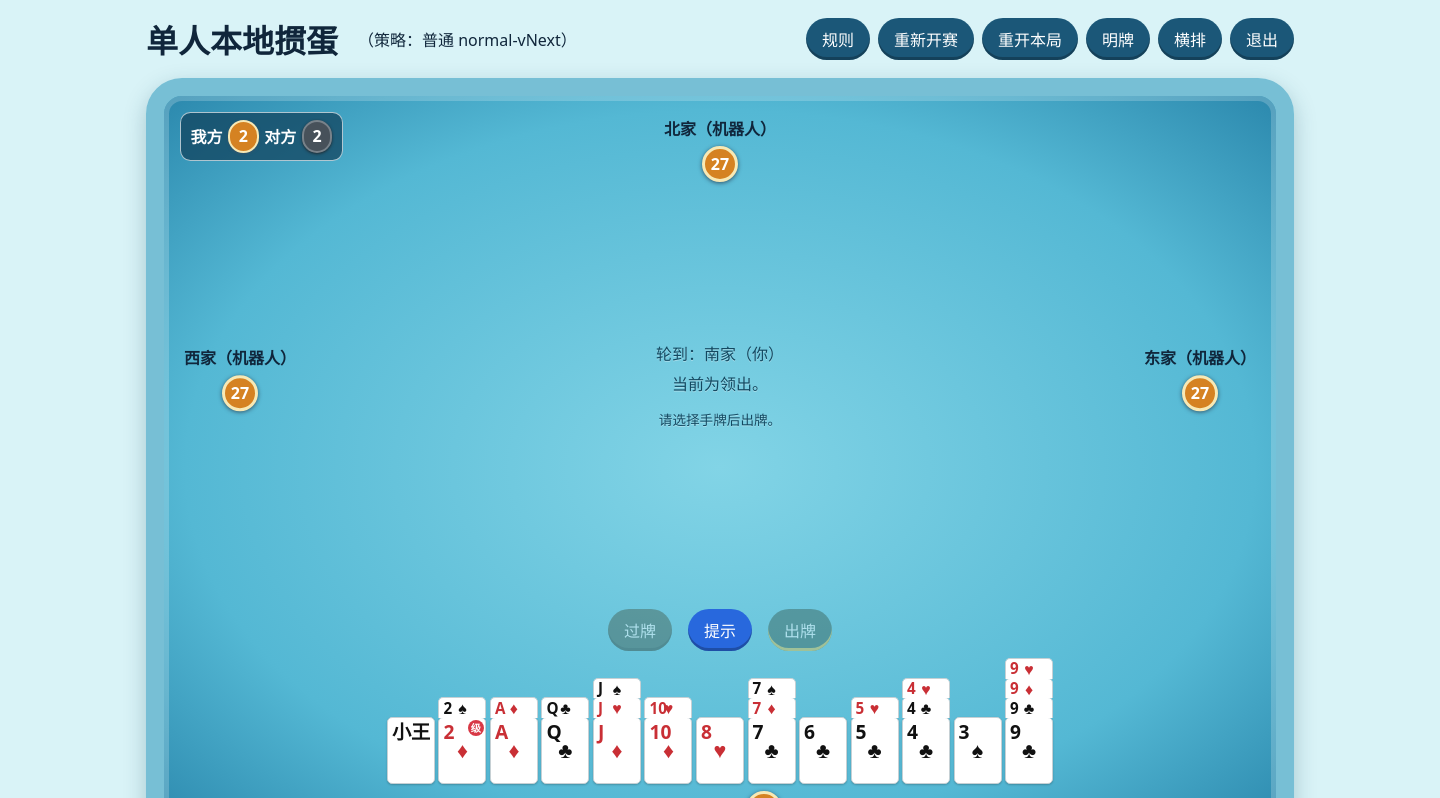
it: App › 首局由南家行动，牌桌按四边座位显示并高亮可选牌
Expected: the element named "北家座位" shows "27", [711,153,729,175]
Expected: the element named "东家座位" shows "27", [1191,382,1209,404]
Click the button with aria-label "选择": (411, 750) [387,717,435,784]
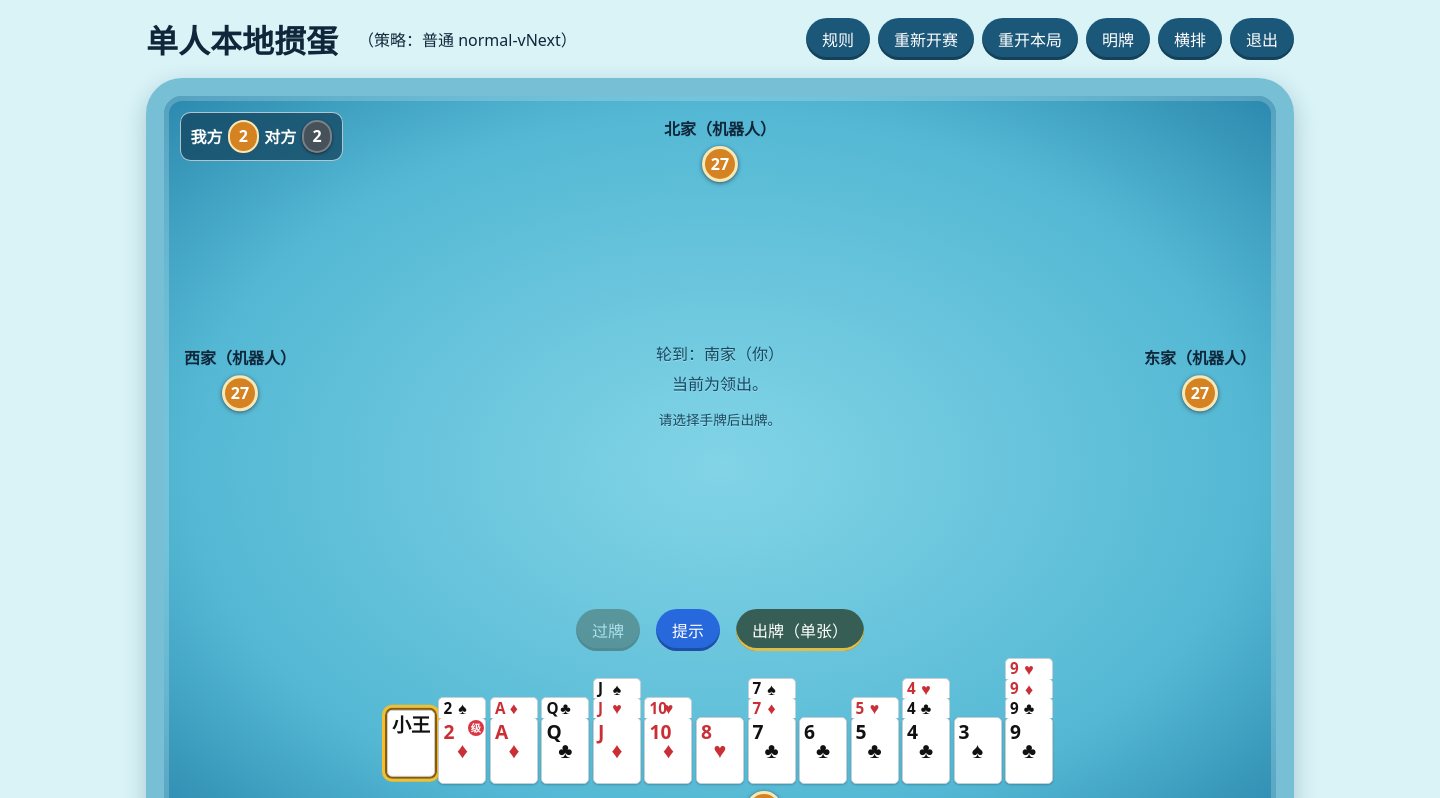
Expected: the button with aria-label "选择" is pressed
Click the button with aria-label "选择": (411, 750) [387,717,435,784]
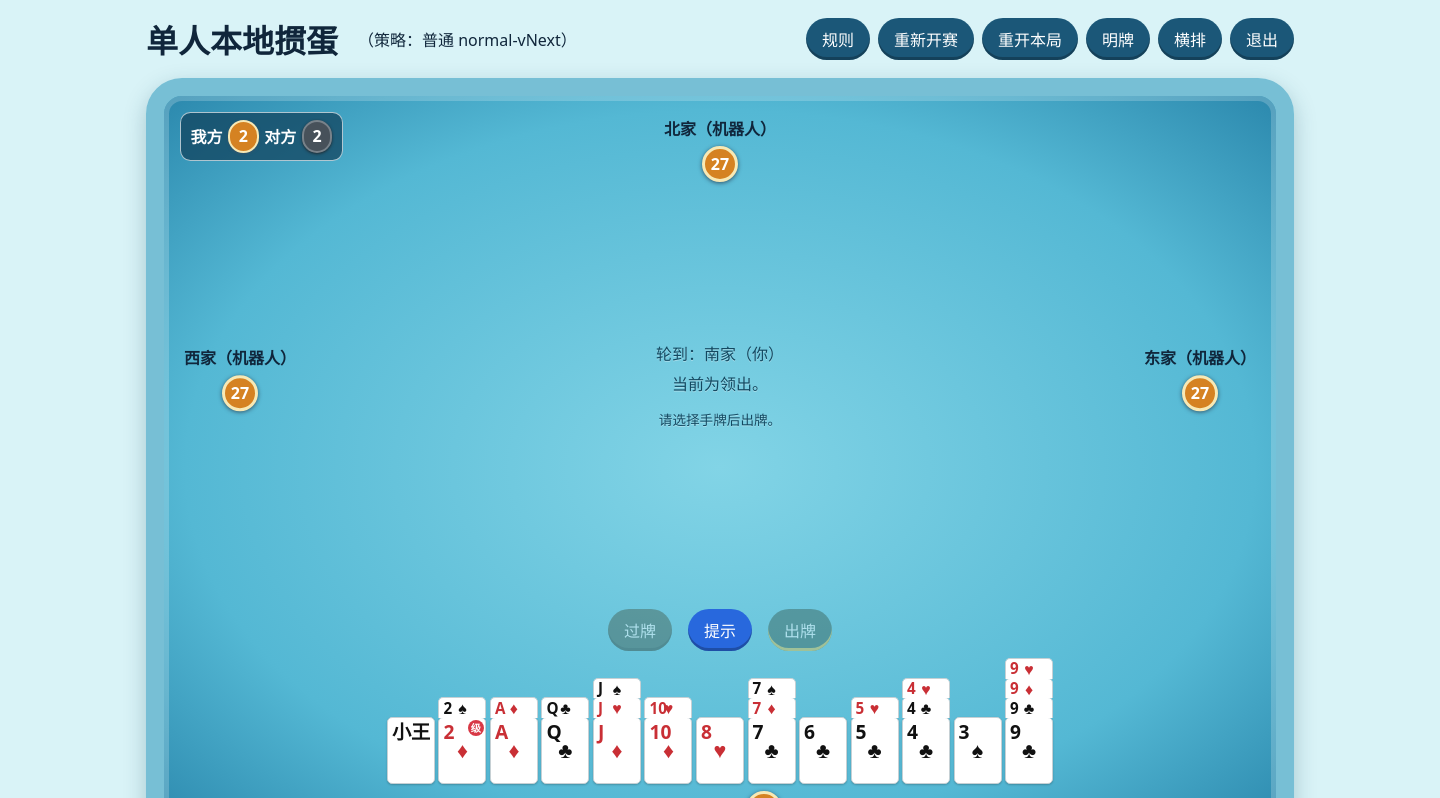
Expected: the element with class "compact" showing "2 ♠" is shown, [438,697,486,718]
Expected: the buttons read "过牌", "提示", "出牌", in this order, [608,609,672,651]; [688,609,752,651]; [768,609,832,651]
